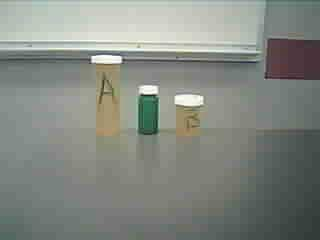Bottle A: (85, 51, 130, 145)
Bottle B: (173, 92, 208, 140)
Bottle C: (133, 82, 166, 139)
